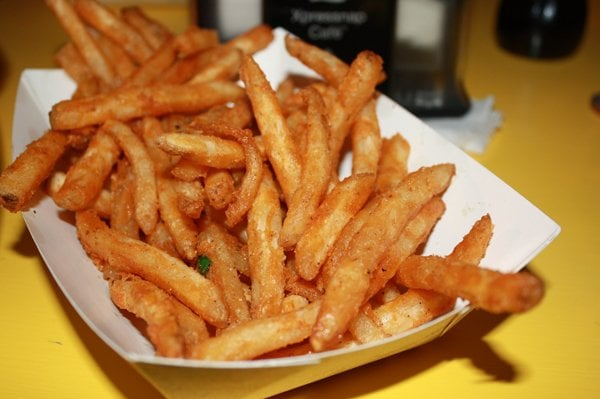curry: (10, 3, 598, 396)
